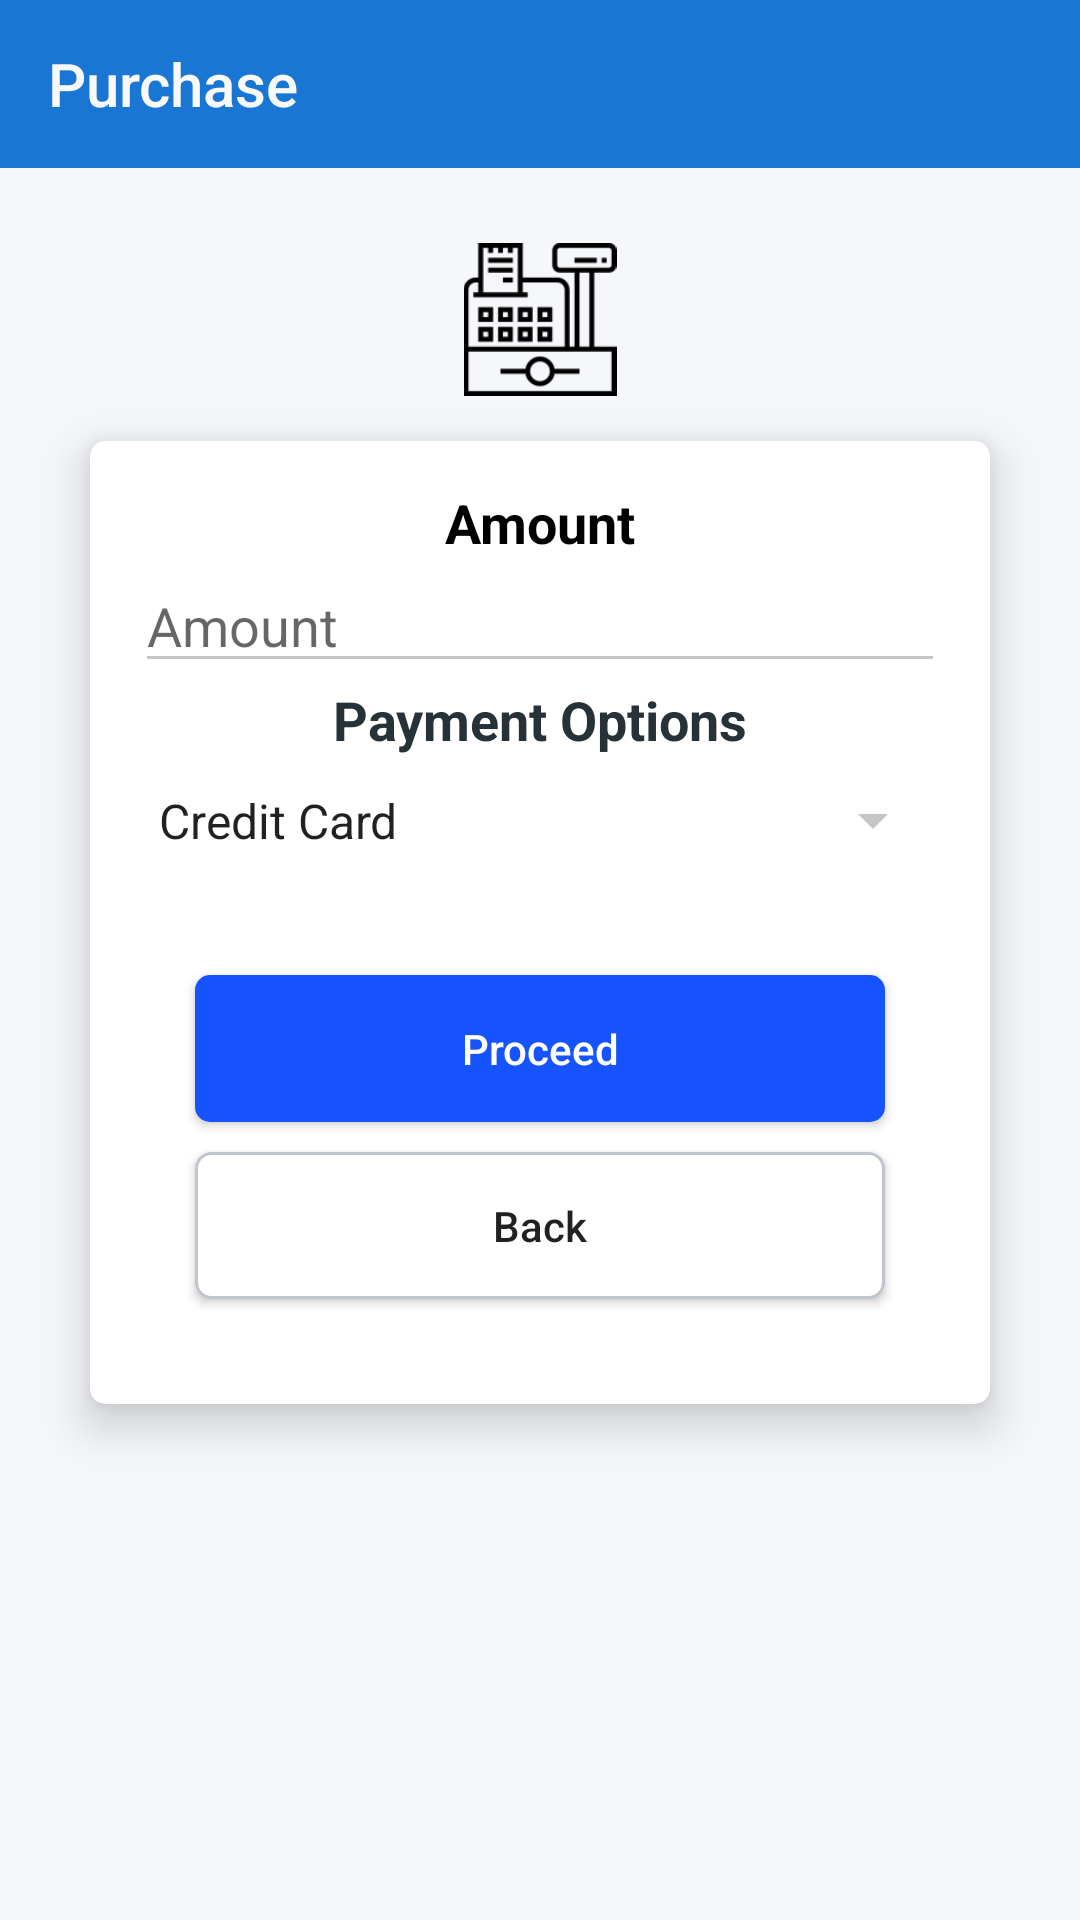

Icon bounding boxes for this 1080px x 1920px phone screenshot, format (x1, y1, x2, y2):
cashier: (464, 243, 617, 396)
